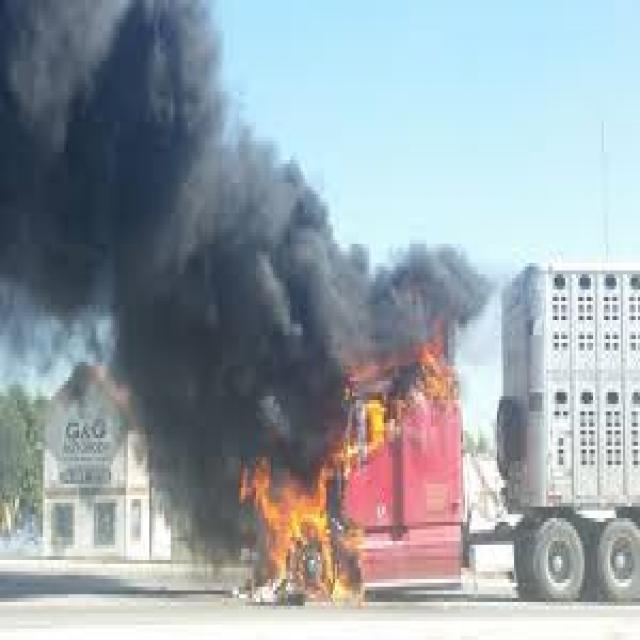fire: (237, 461, 354, 606), (418, 350, 459, 404)
smoke: (2, 4, 239, 575), (237, 122, 495, 358), (237, 312, 348, 458)
